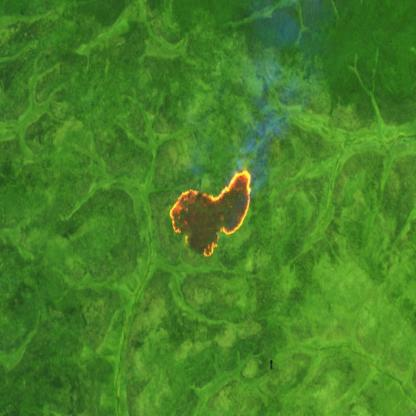fire: (167, 164, 254, 261)
